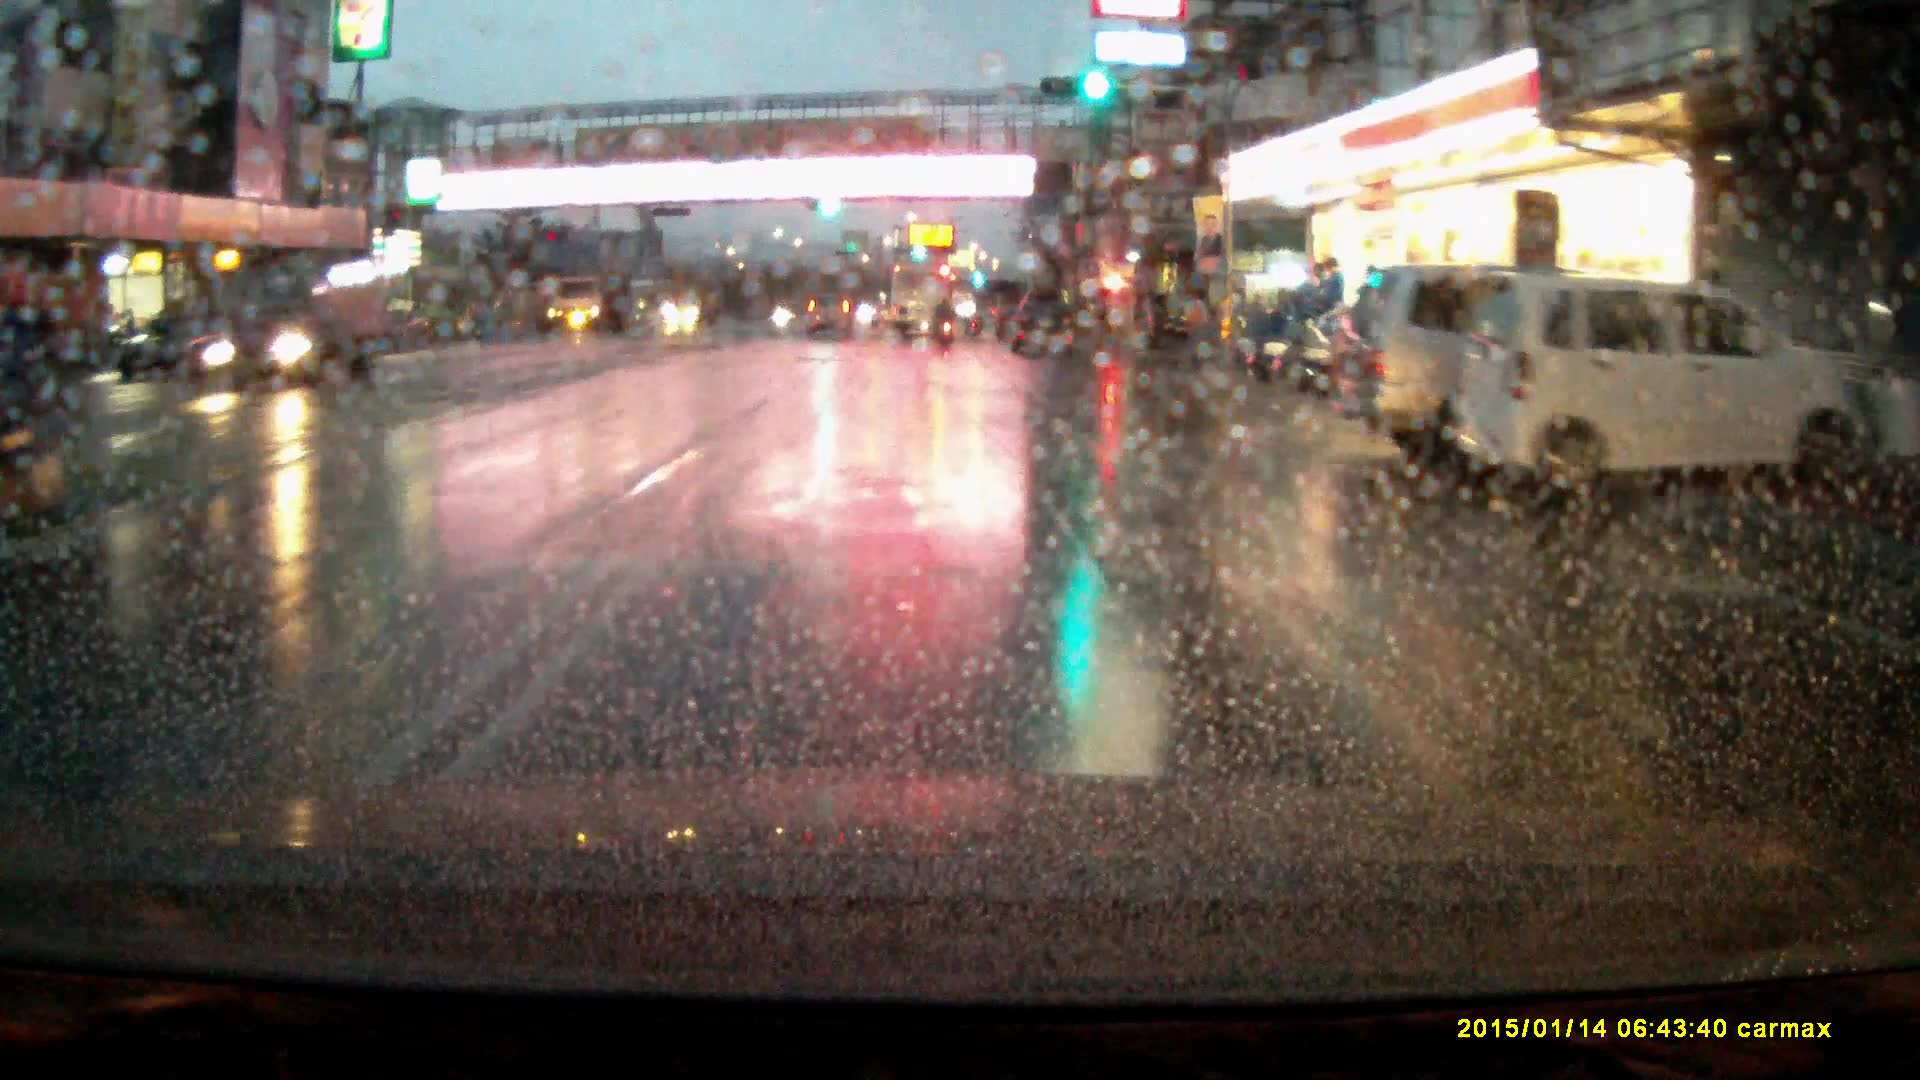rider: (937, 300, 959, 351)
vehicle: (1452, 270, 1842, 499), (1322, 262, 1587, 451), (206, 260, 390, 400), (1007, 283, 1079, 357), (548, 275, 626, 337), (891, 263, 955, 338), (1135, 290, 1212, 349), (666, 279, 722, 330), (802, 298, 856, 349)
